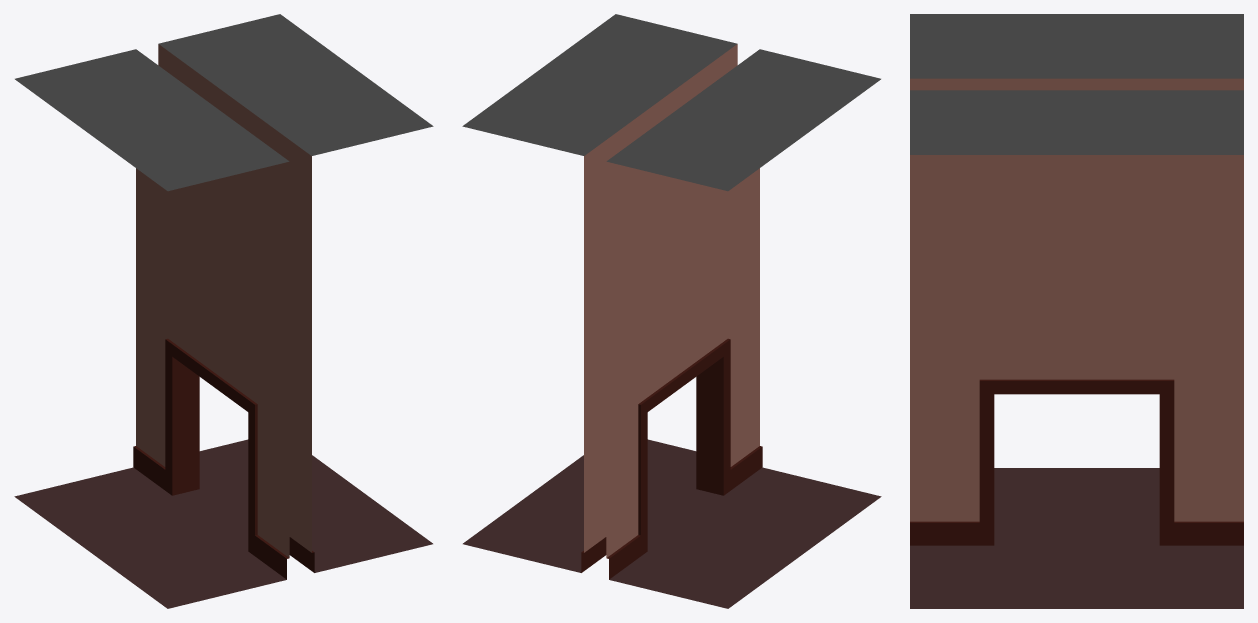
The model's file is Tile_010.fbx.
The picture shows the model from 3 angles, left to right: view 1: azimuth 30°, elevation 25°; view 2: azimuth 150°, elevation 25°; view 3: azimuth 270°, elevation 25°; orthographic projection. The views are drawn at different scales.
Visible parts, largest first — view 1: Tile_010; view 2: Tile_010; view 3: Tile_010.
Boxes of the visible parts, box(x1,y1,x2,y2) form: Tile_010: box(14, 14, 433, 608); Tile_010: box(462, 14, 881, 608); Tile_010: box(910, 14, 1243, 608).
Bounding box in the file's own units: 200 × 300 × 200.
